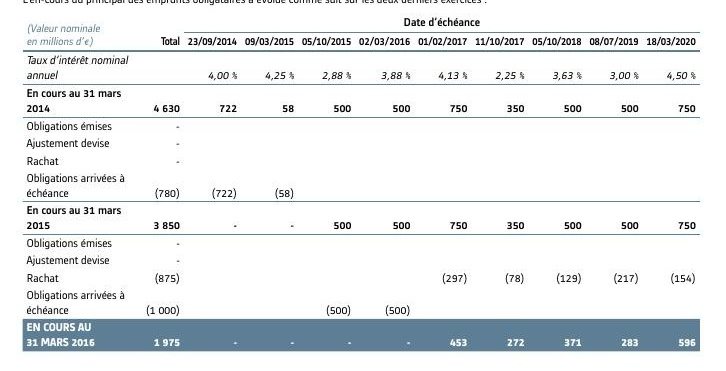table: (0, 0, 726, 371)
